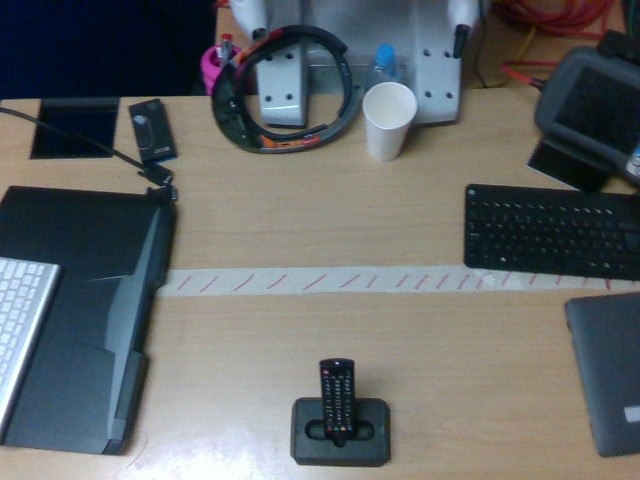remote: (320, 359, 357, 438)
